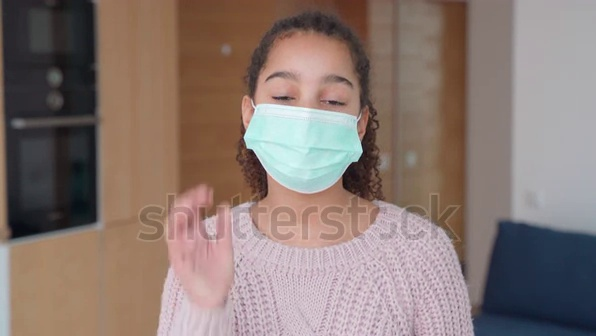Mask: (235, 105, 374, 193)
